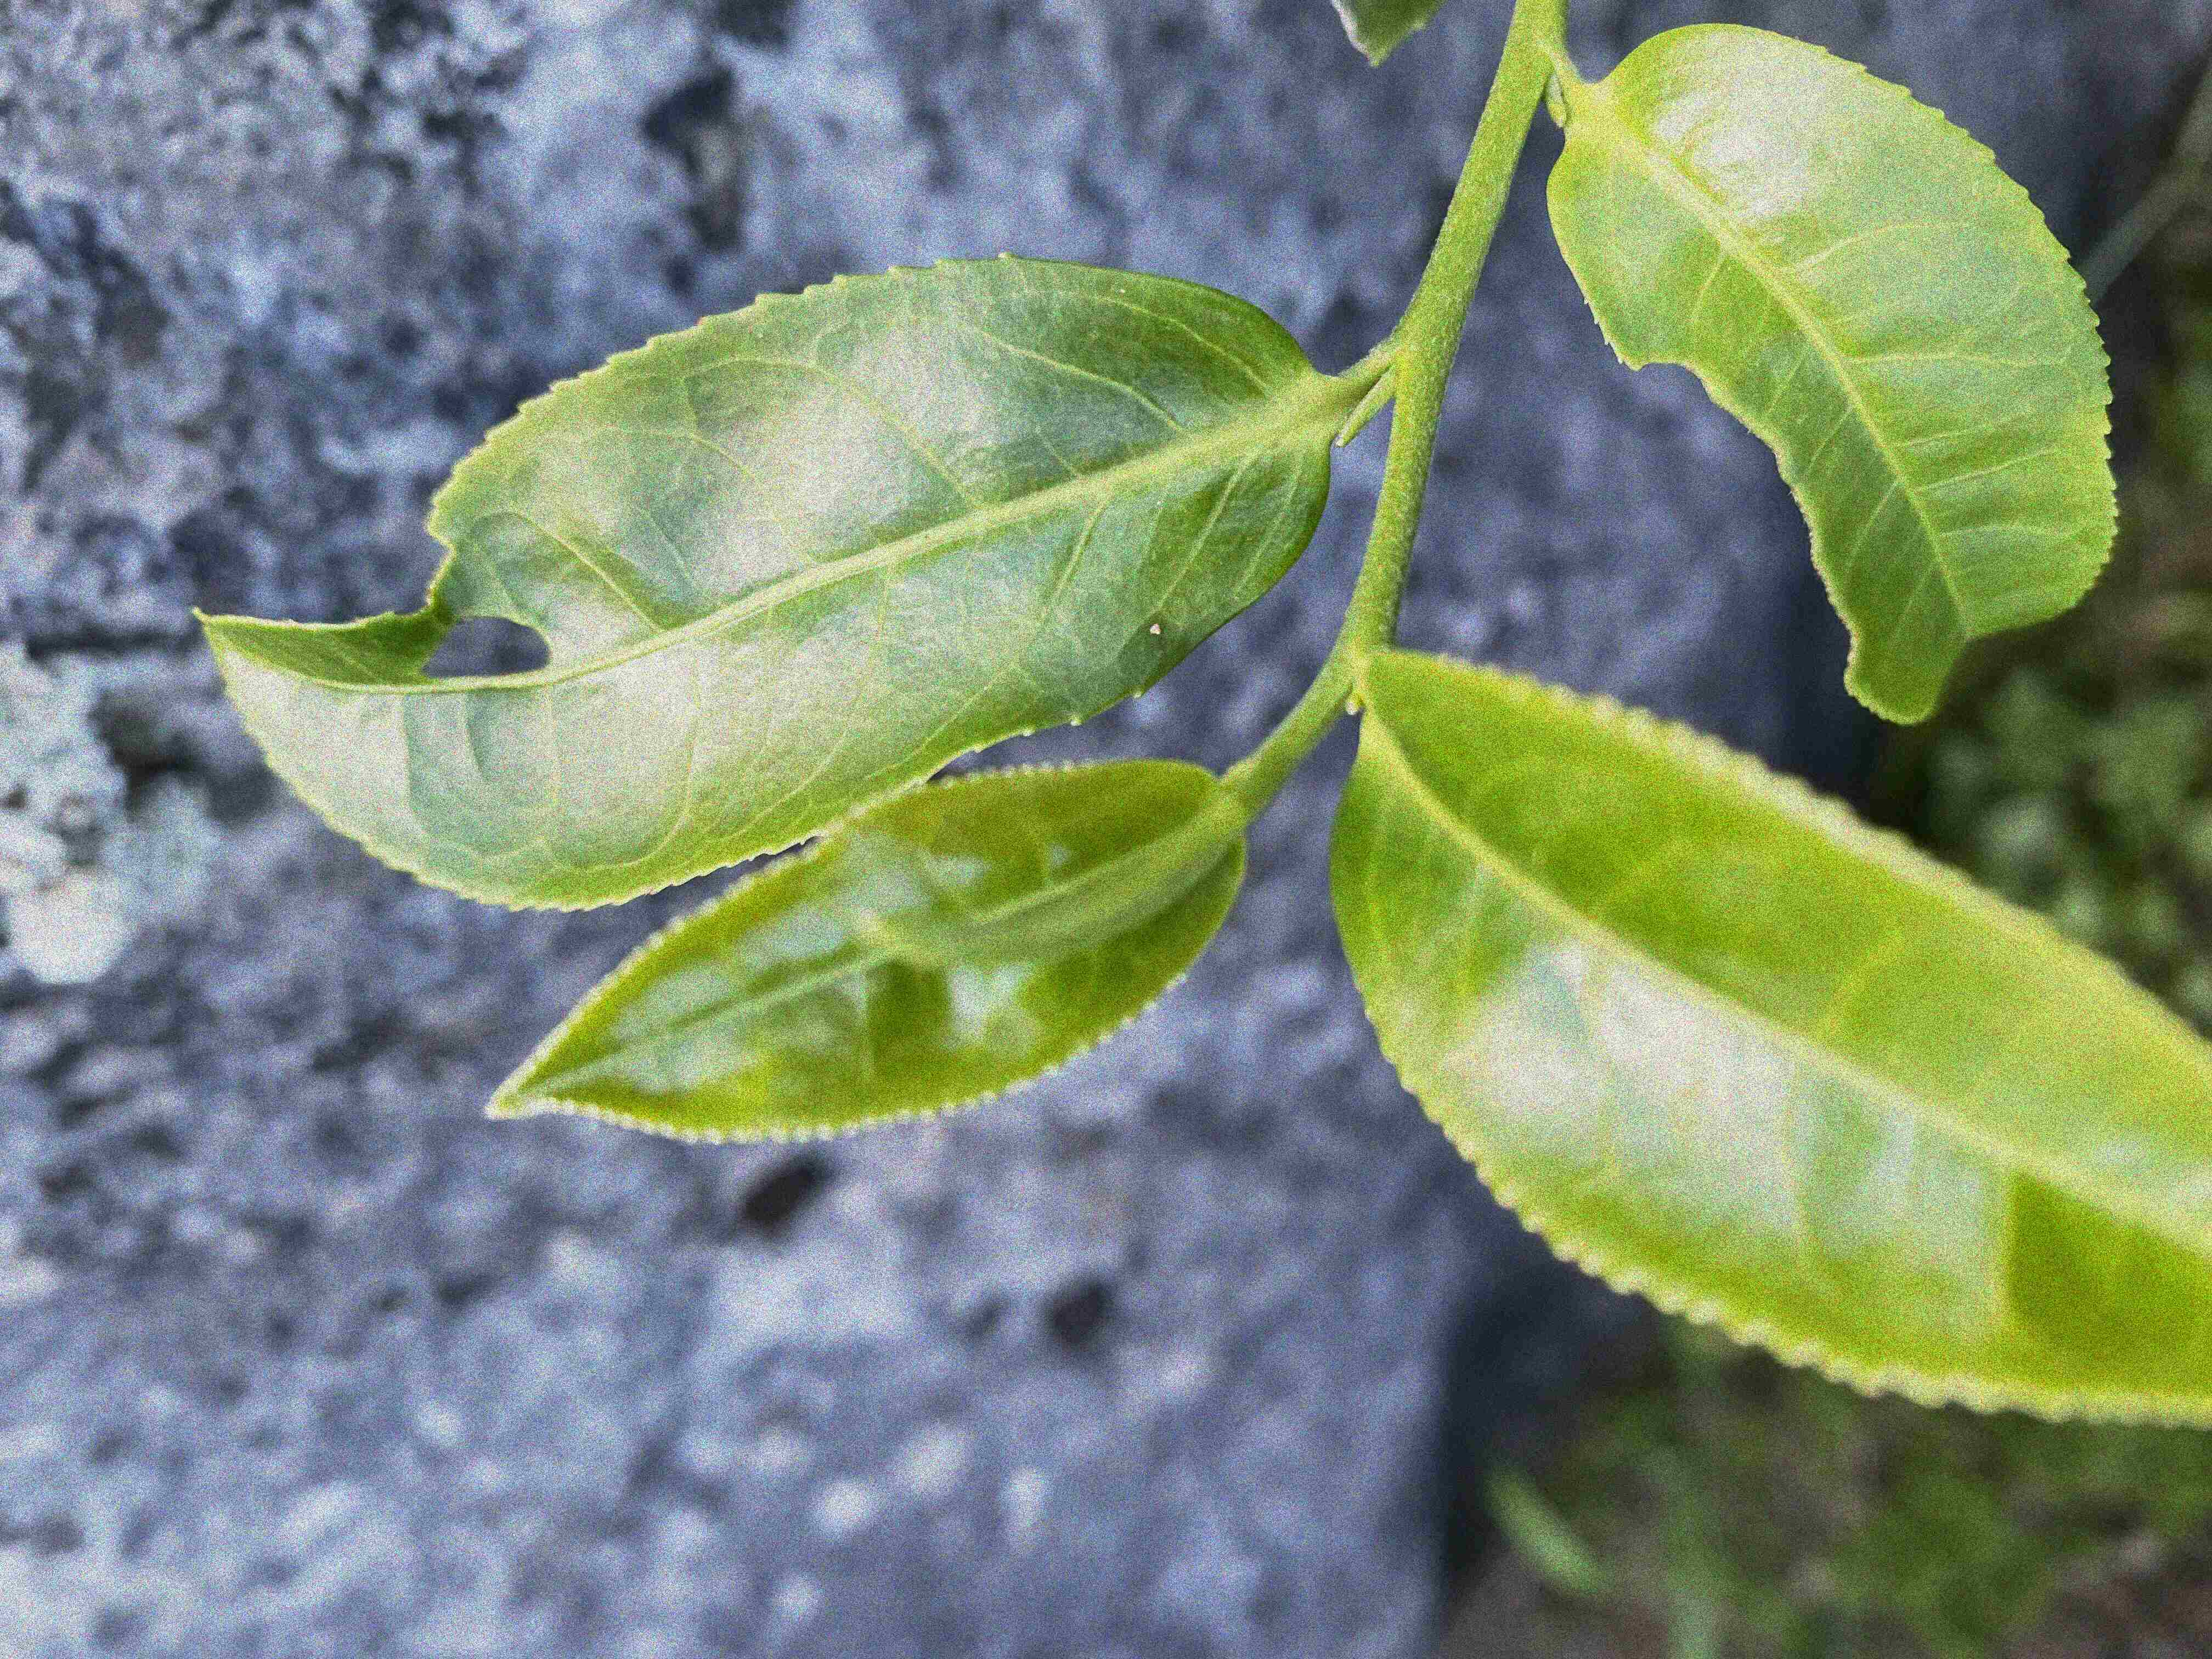chihuo_high: (1545, 19, 2127, 728)
chihuo_low: (190, 249, 1338, 915)
healthy: (1332, 640, 2207, 1431), (479, 753, 1244, 1152)
